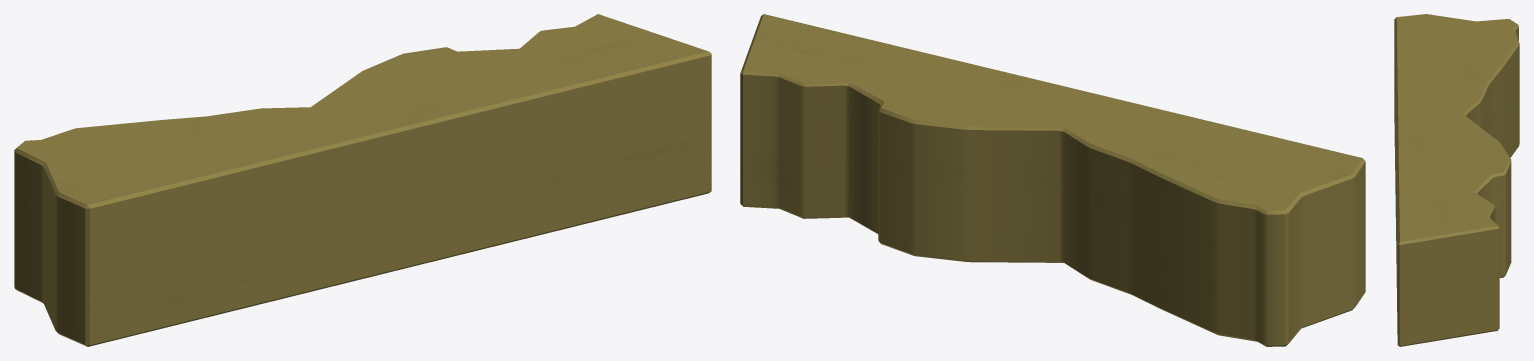
Rendered from egypt.DAE.
3 renders of one model, left to right at view 1: azimuth 30°, elevation 25°; view 2: azimuth 150°, elevation 25°; view 3: azimuth 270°, elevation 25°, orthographic. The views are drawn at different scales.
Parts seen in each view (by area): view 1: Egypt; view 2: Egypt; view 3: Egypt.
Boxes of the visible parts, bbox=[...] form: Egypt: bbox=[14, 14, 711, 346]; Egypt: bbox=[740, 14, 1365, 346]; Egypt: bbox=[1394, 14, 1519, 346].
Size of the model in its own units: 117 by 26.98 by 25.
1 material, 1 textured.
